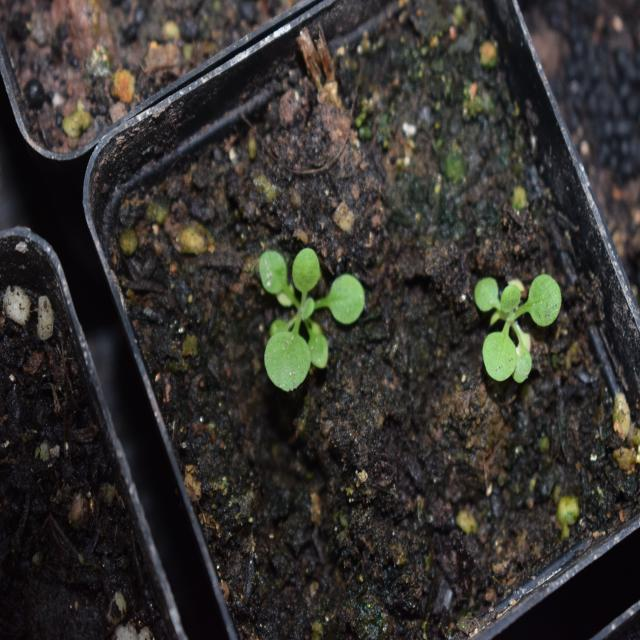Shepherd_Purse: (236, 255, 366, 400), (464, 246, 560, 408)
